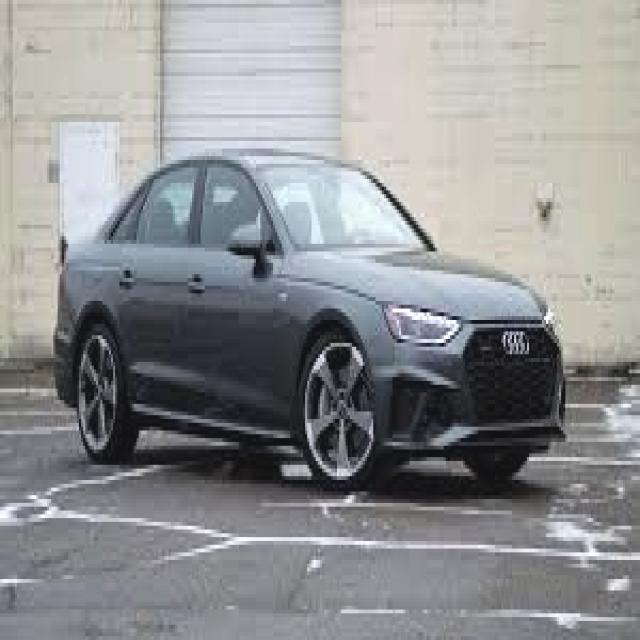black: (56, 157, 558, 488)
